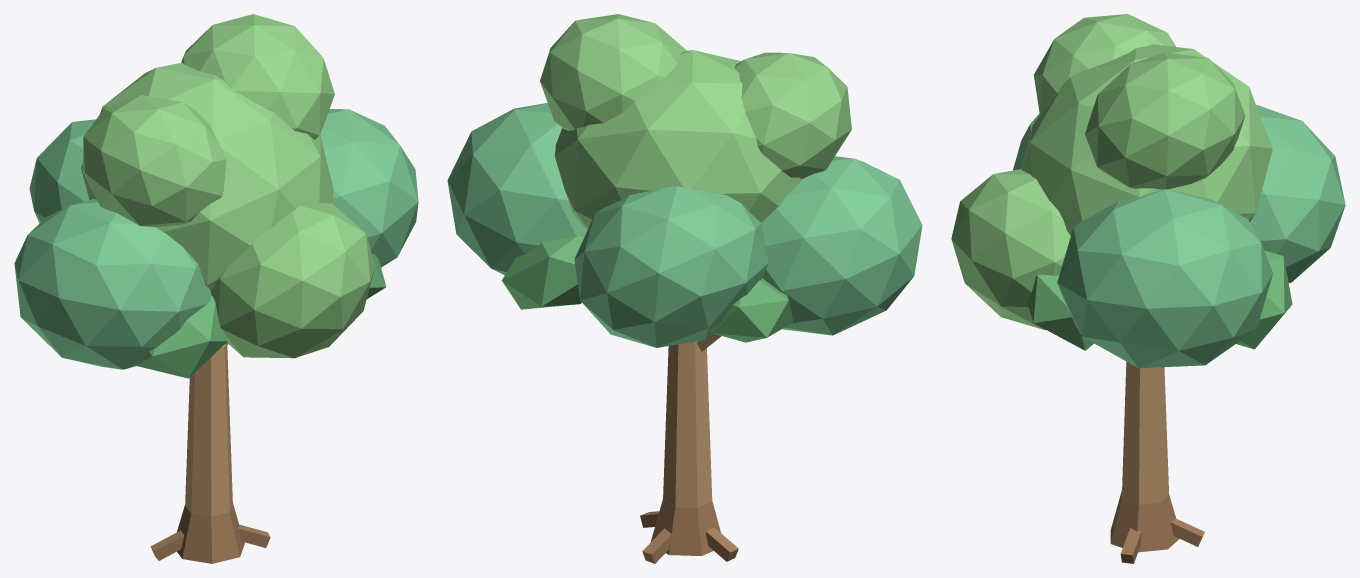
Rendered from env_tree_large_01.glb.
3 renders of one model, left to right at view 1: azimuth 30°, elevation 25°; view 2: azimuth 150°, elevation 25°; view 3: azimuth 270°, elevation 25°, orthographic. The views are drawn at different scales.
Visible parts, largest first — view 1: env_tree_large_01_body; view 2: env_tree_large_01_body; view 3: env_tree_large_01_body.
Boxes of the visible parts, left/top/right/bottom form: env_tree_large_01_body: left=14, top=14, right=418, bottom=563; env_tree_large_01_body: left=447, top=14, right=922, bottom=563; env_tree_large_01_body: left=951, top=14, right=1345, bottom=563.
Size of the model in its own units: 4.54 by 5.4 by 3.79.
